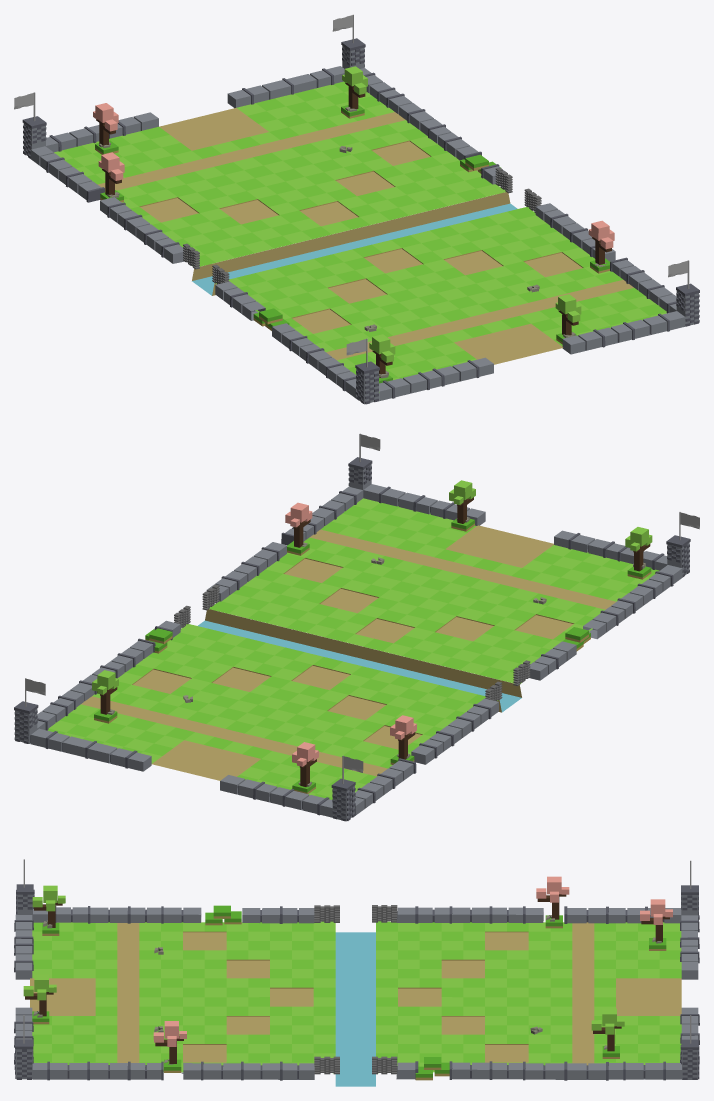
File: terrain2.fbx
3 renders of one model, top to bottom at view 1: azimuth 30°, elevation 25°; view 2: azimuth 150°, elevation 25°; view 3: azimuth 270°, elevation 25°, orthographic.
Parts seen in each view (by area): view 1: pasted__pPlane4, polySurface144, polySurface147, polySurface543, polySurface583, polySurface139, polySurface149, polySurface518, polySurface133, polySurface537, polySurface152, polySurface140 (+13 smaller); view 2: pasted__pPlane4, polySurface144, polySurface147, polySurface146, polySurface148, polySurface139, polySurface583, polySurface574, polySurface152, polySurface518, polySurface133, polySurface538 (+16 smaller); view 3: pasted__pPlane4, polySurface543, polySurface138, polySurface539, polySurface134, polySurface141, polySurface133, polySurface152, polySurface139, polySurface540, polySurface518, polySurface574 (+19 smaller).
Boxes of the visible parts, box(x1,y1,x2,y2) form: pasted__pPlane4: box(54, 81, 666, 392); polySurface144: box(597, 311, 685, 345); polySurface147: box(227, 78, 293, 108); polySurface543: box(386, 93, 445, 138); polySurface583: box(341, 66, 367, 118); polySurface139: box(215, 281, 265, 320); polySurface149: box(422, 360, 479, 388); polySurface518: box(588, 220, 614, 273); polySurface133: box(110, 204, 162, 244); polySurface537: box(379, 372, 429, 401); polySurface152: box(292, 338, 343, 378); polySurface140: box(30, 146, 80, 184); pasted__pPlane4: box(48, 498, 659, 799); polySurface144: box(363, 484, 450, 517); polySurface147: box(85, 741, 151, 771); polySurface146: box(220, 775, 289, 805); polySurface148: box(30, 728, 92, 757); polySurface139: box(529, 641, 576, 680); polySurface583: box(92, 670, 118, 723); polySurface574: box(625, 527, 652, 579); polySurface152: box(604, 583, 655, 623); polySurface518: box(285, 502, 312, 555); polySurface133: box(423, 716, 474, 755); polySurface538: box(282, 789, 332, 817); pasted__pPlane4: box(30, 921, 681, 1086); polySurface543: box(523, 1061, 608, 1080); polySurface138: box(449, 1061, 522, 1079); polySurface539: box(608, 1061, 681, 1080); polySurface134: box(90, 1061, 161, 1080); polySurface141: box(243, 1061, 314, 1080); polySurface133: box(449, 906, 522, 923); polySurface152: box(88, 906, 161, 923); polySurface139: box(242, 906, 314, 923); polySurface540: box(32, 1061, 89, 1080); polySurface518: box(153, 1021, 186, 1072); polySurface574: box(32, 885, 65, 935).
Size of the model in its own units: 455 by 89.61 by 775.
